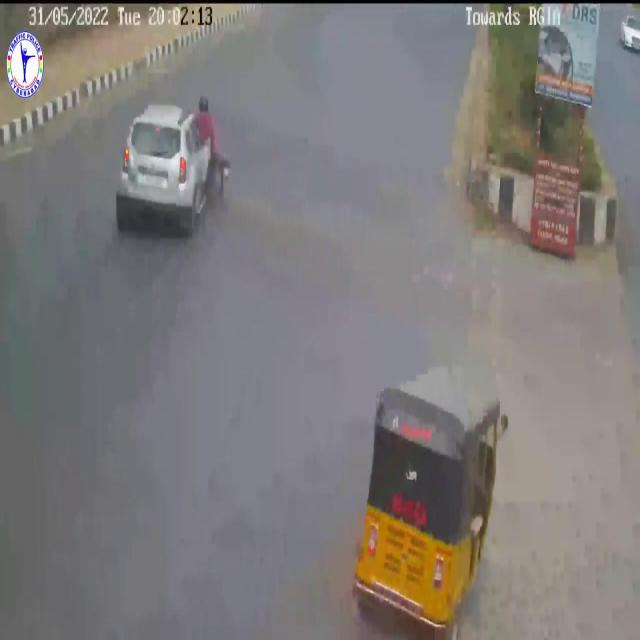accident: (103, 87, 235, 253)
